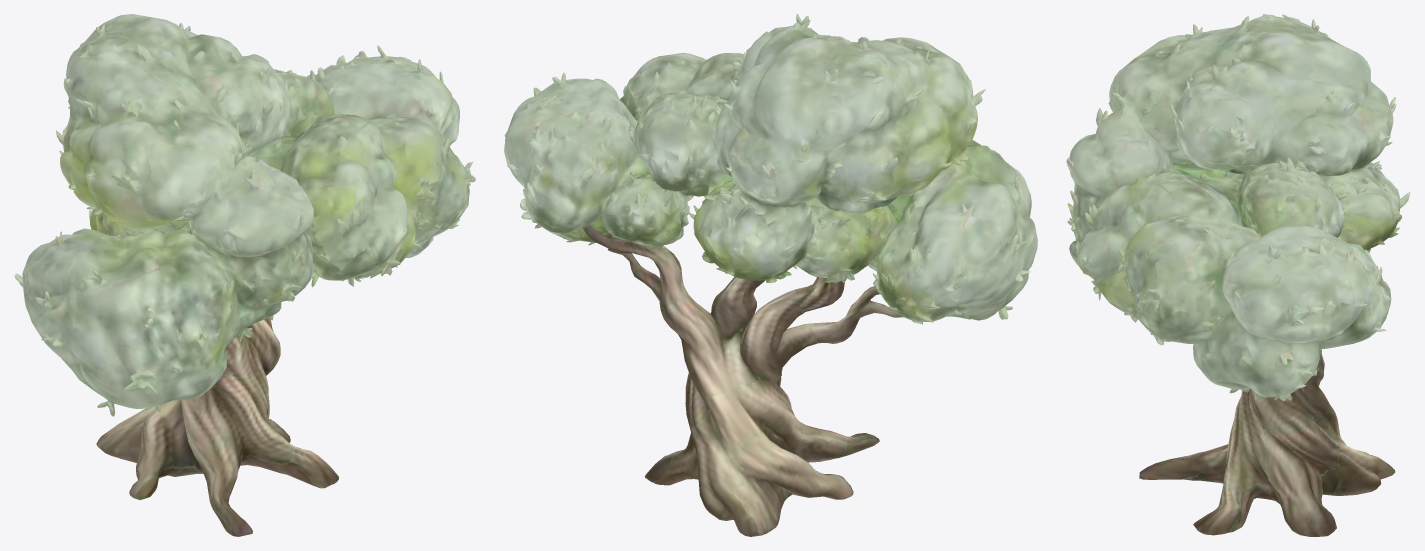
File: olive.glb
3 views of the same model, side by side, from view 1: azimuth 30°, elevation 25°; view 2: azimuth 150°, elevation 25°; view 3: azimuth 270°, elevation 25° (orthographic). The views are drawn at different scales.
Size of the model in its own units: 1.89 by 1.79 by 1.28.
1 material, 1 textured.
